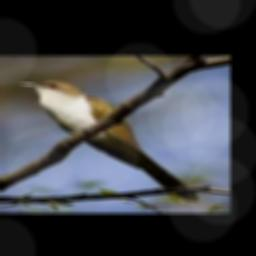Cuckoo: (16, 81, 200, 201)
